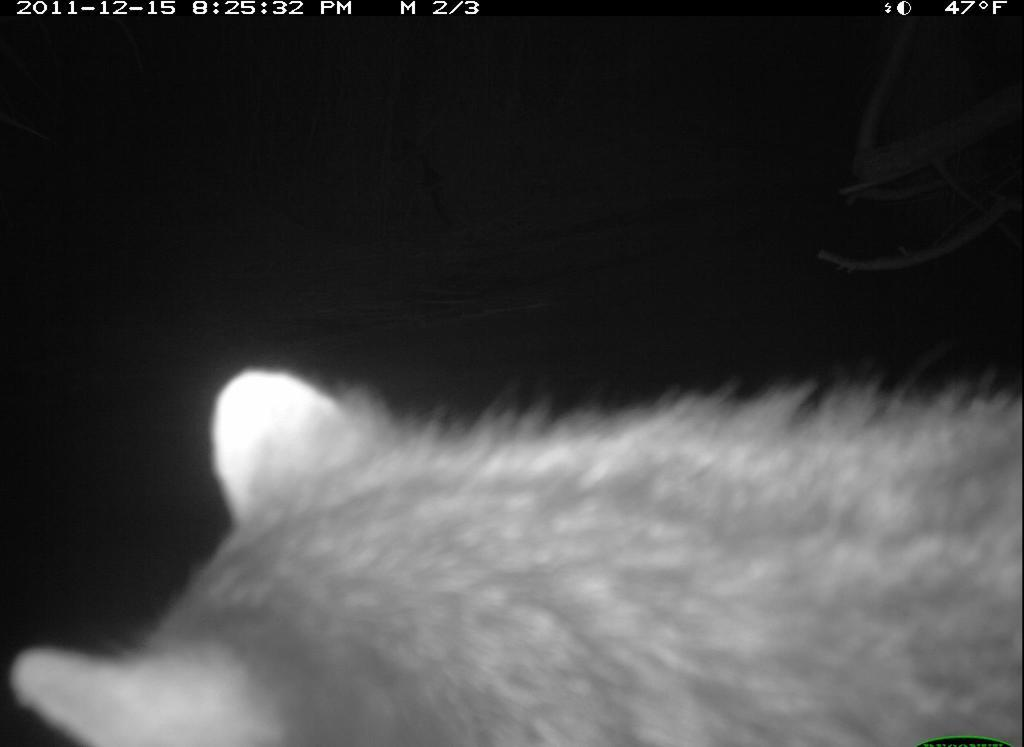raccoon: (16, 333, 1023, 743)
